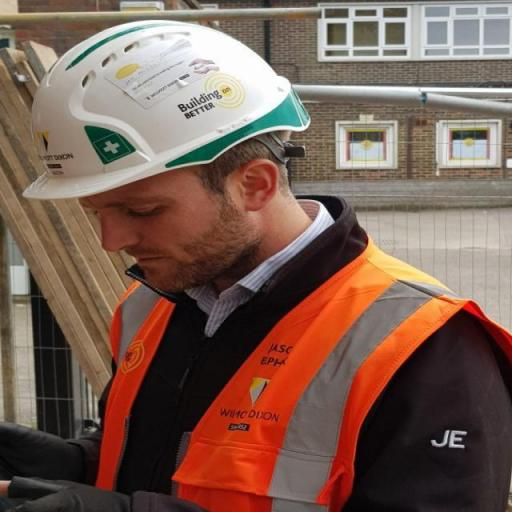hardhat: (20, 19, 314, 203)
person: (16, 12, 505, 511)
vest: (88, 237, 505, 505)
